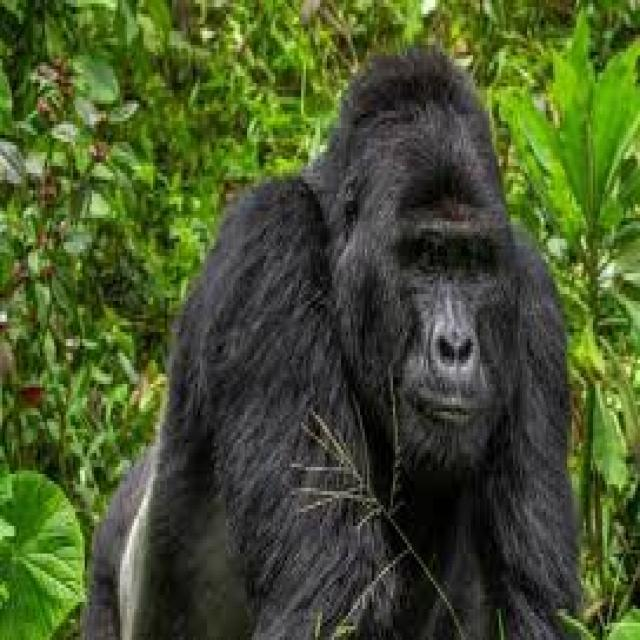Gorilla: (82, 45, 579, 640)
